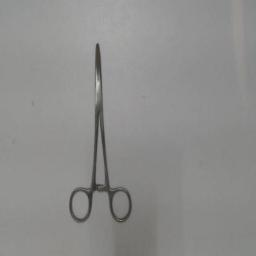Crile Artery Forceps: (67, 38, 137, 224)
